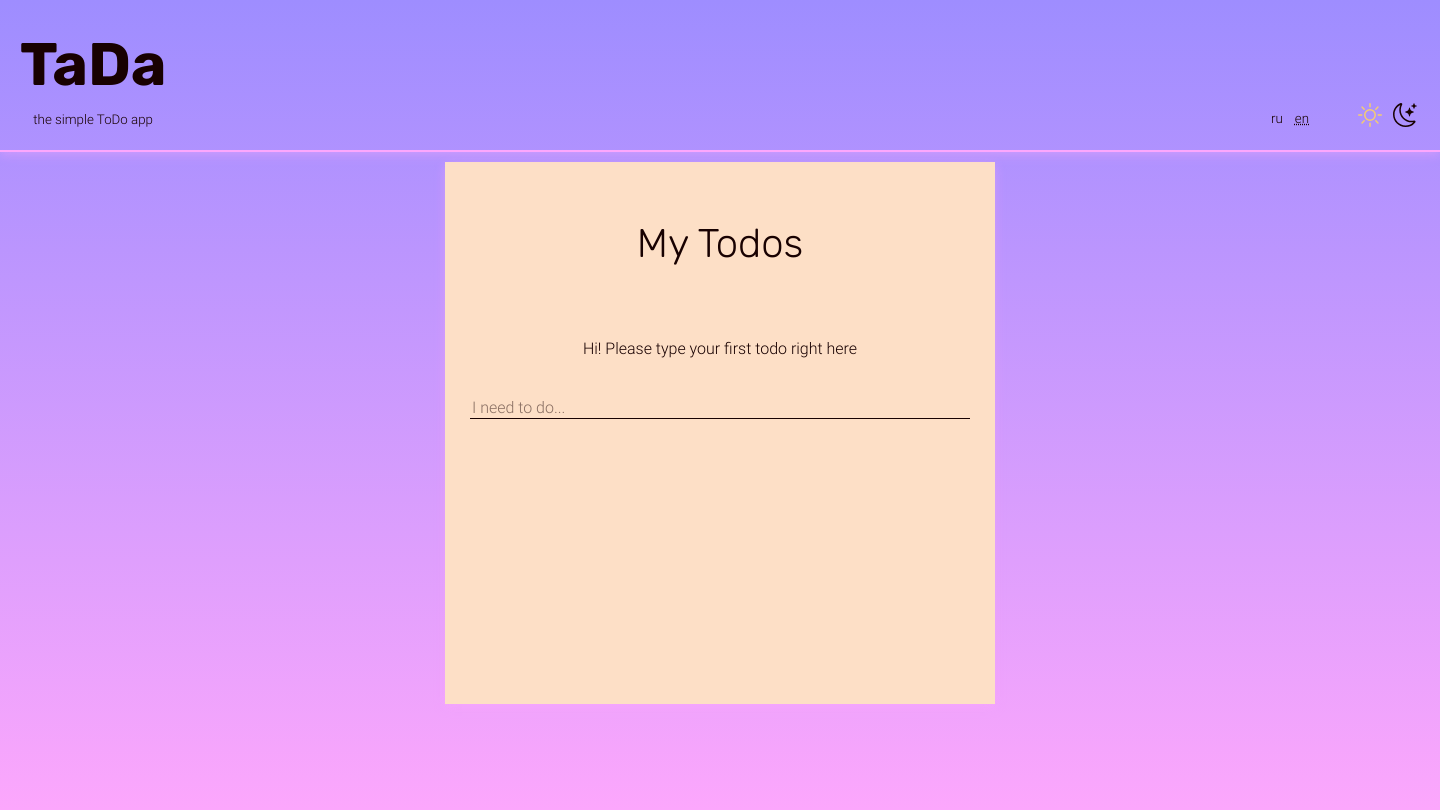
it: Filters › shows active todos
Type "something" into the field with test id "addTodo" at (720, 408), box [470, 397, 970, 419]
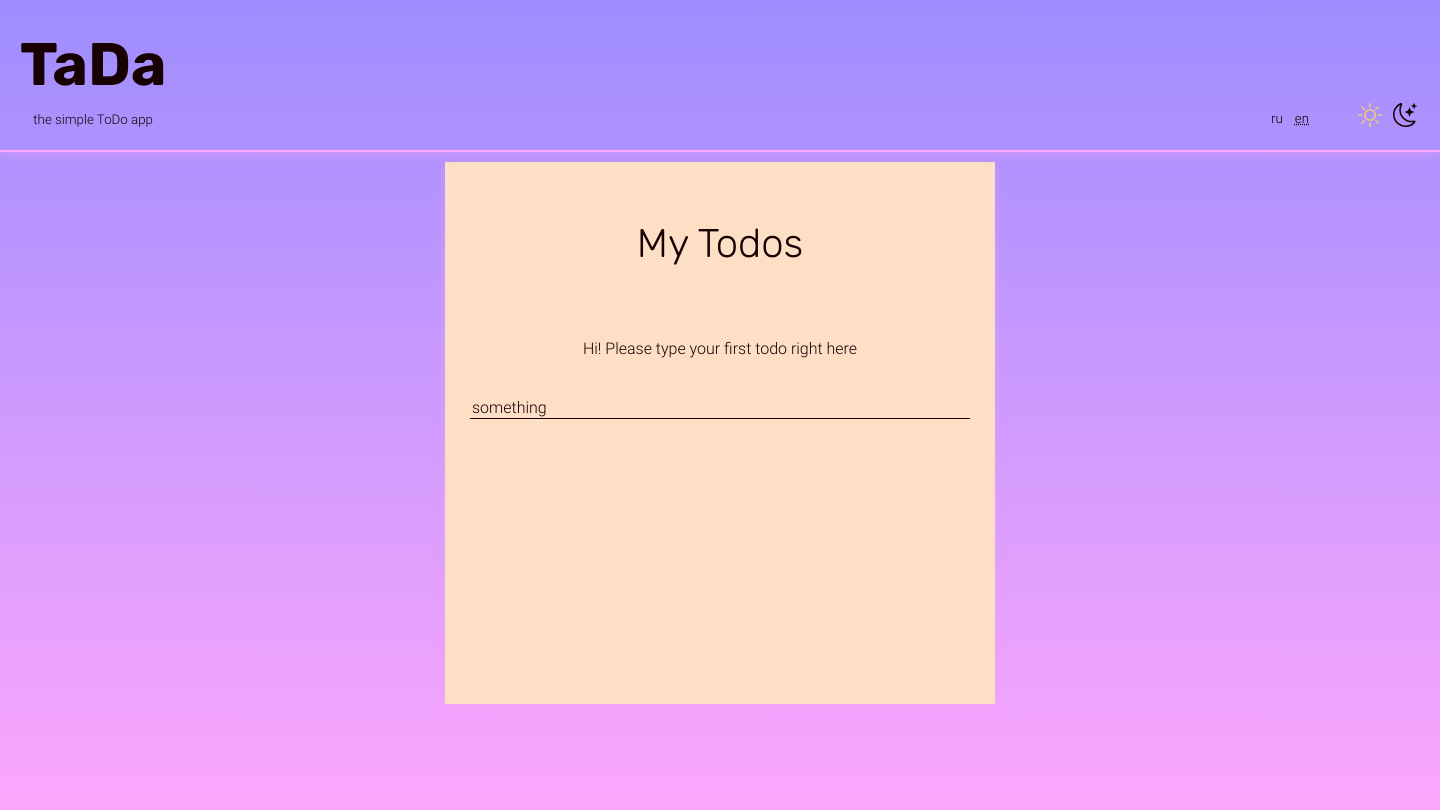
Submit the form from the field with test id "addTodo", box [470, 397, 970, 419]
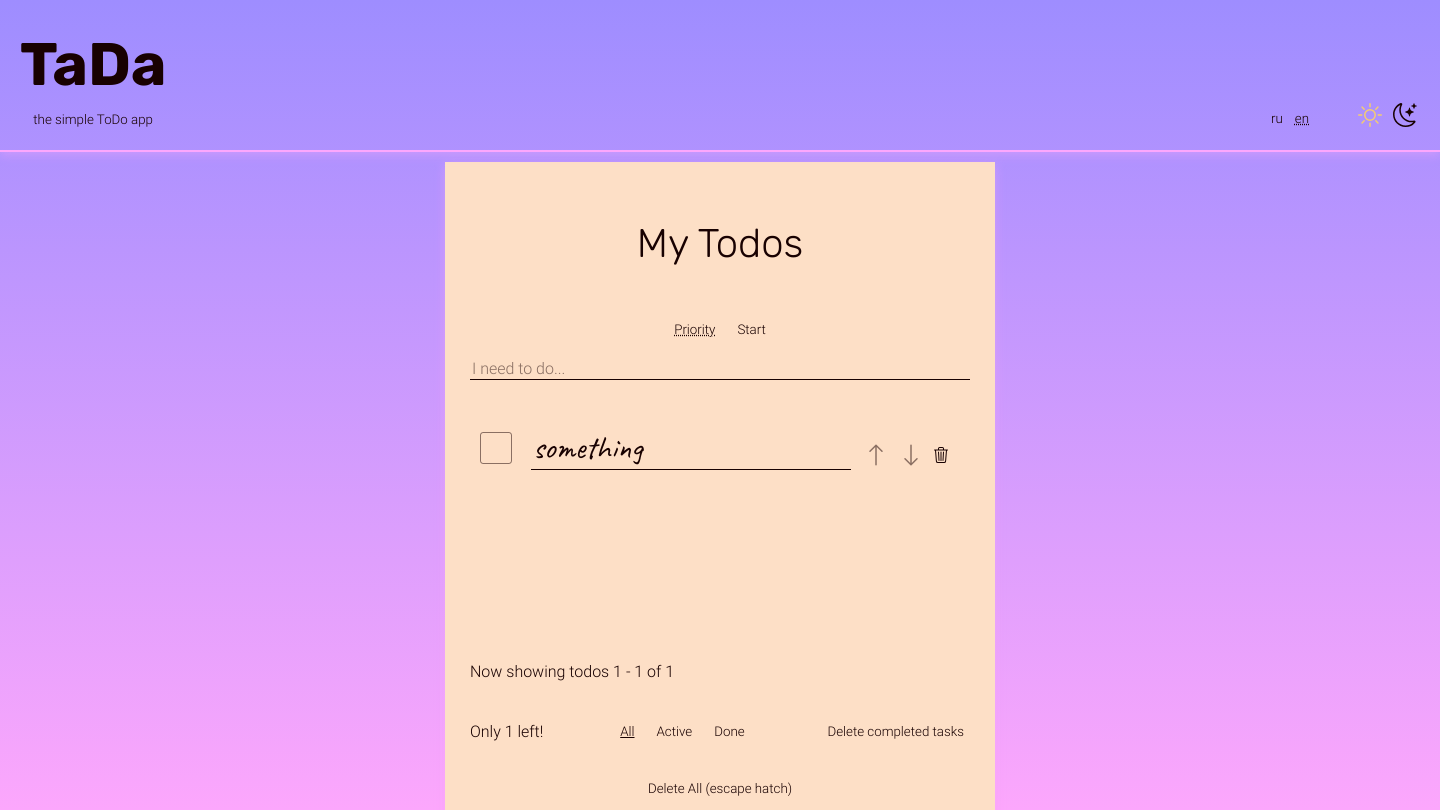
Type "something else" into the field with test id "addTodo" at (720, 369), box [470, 358, 970, 380]
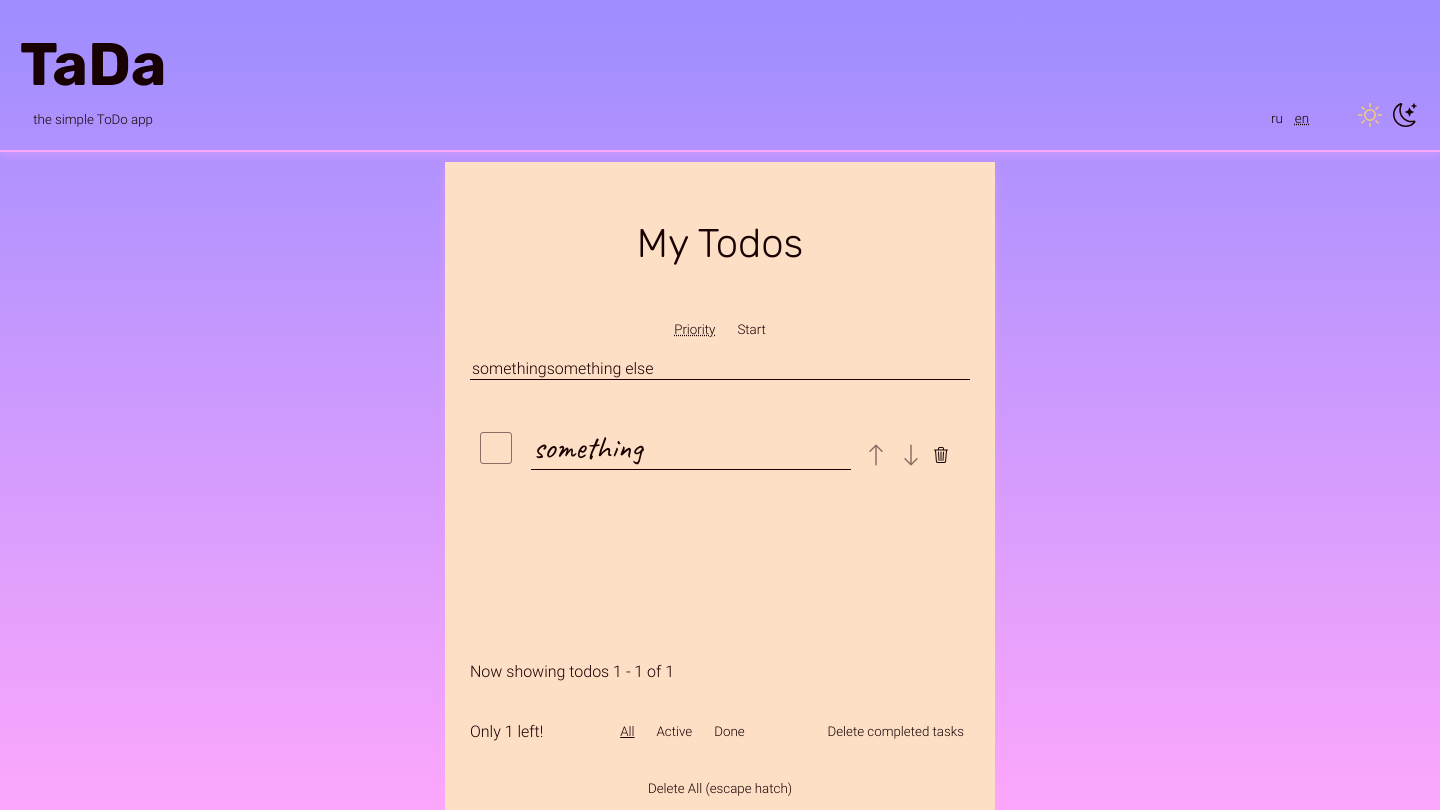
Submit the form from the field with test id "addTodo", box [470, 358, 970, 380]
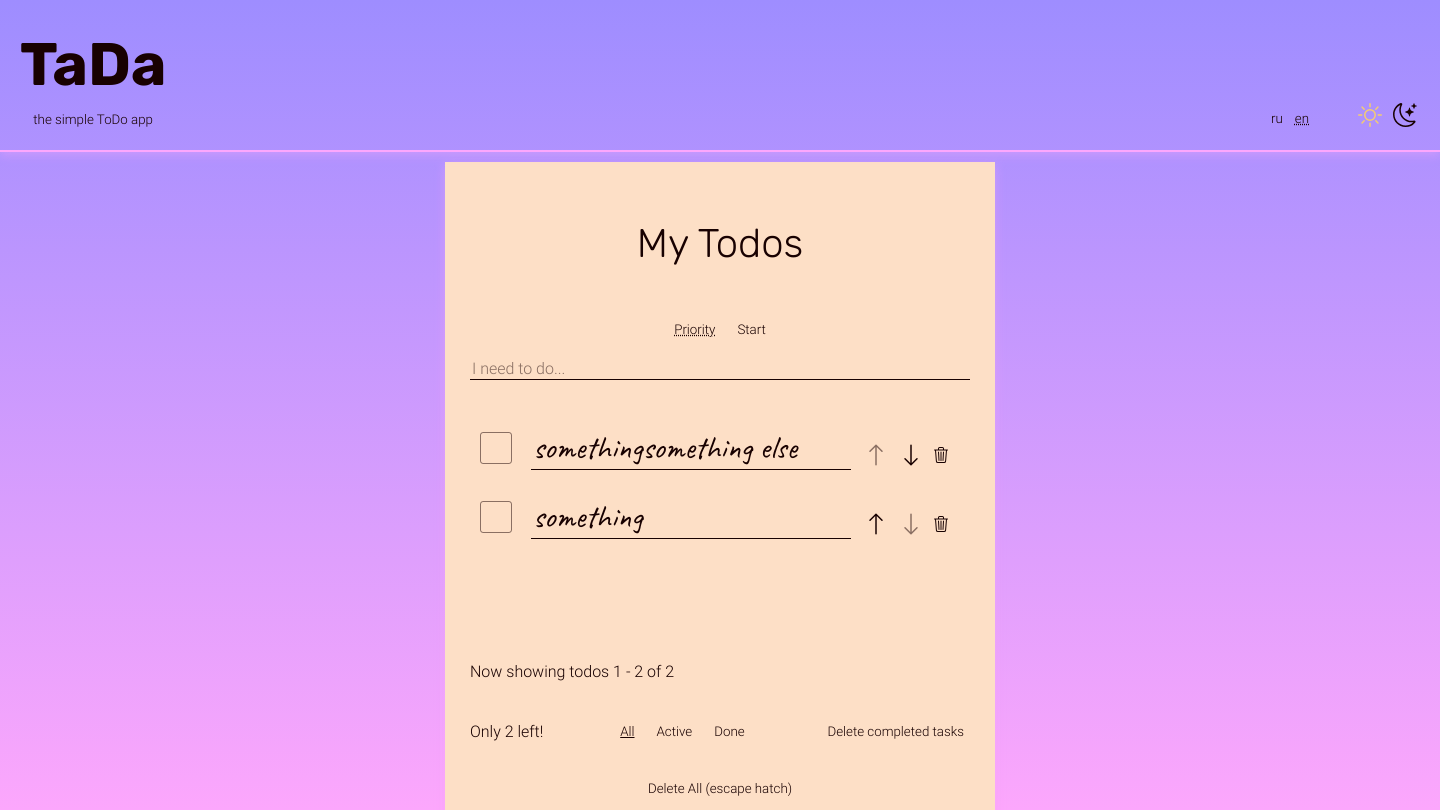
Click the checkbox with test id "checkDone" at (500, 448), box [480, 426, 521, 470]
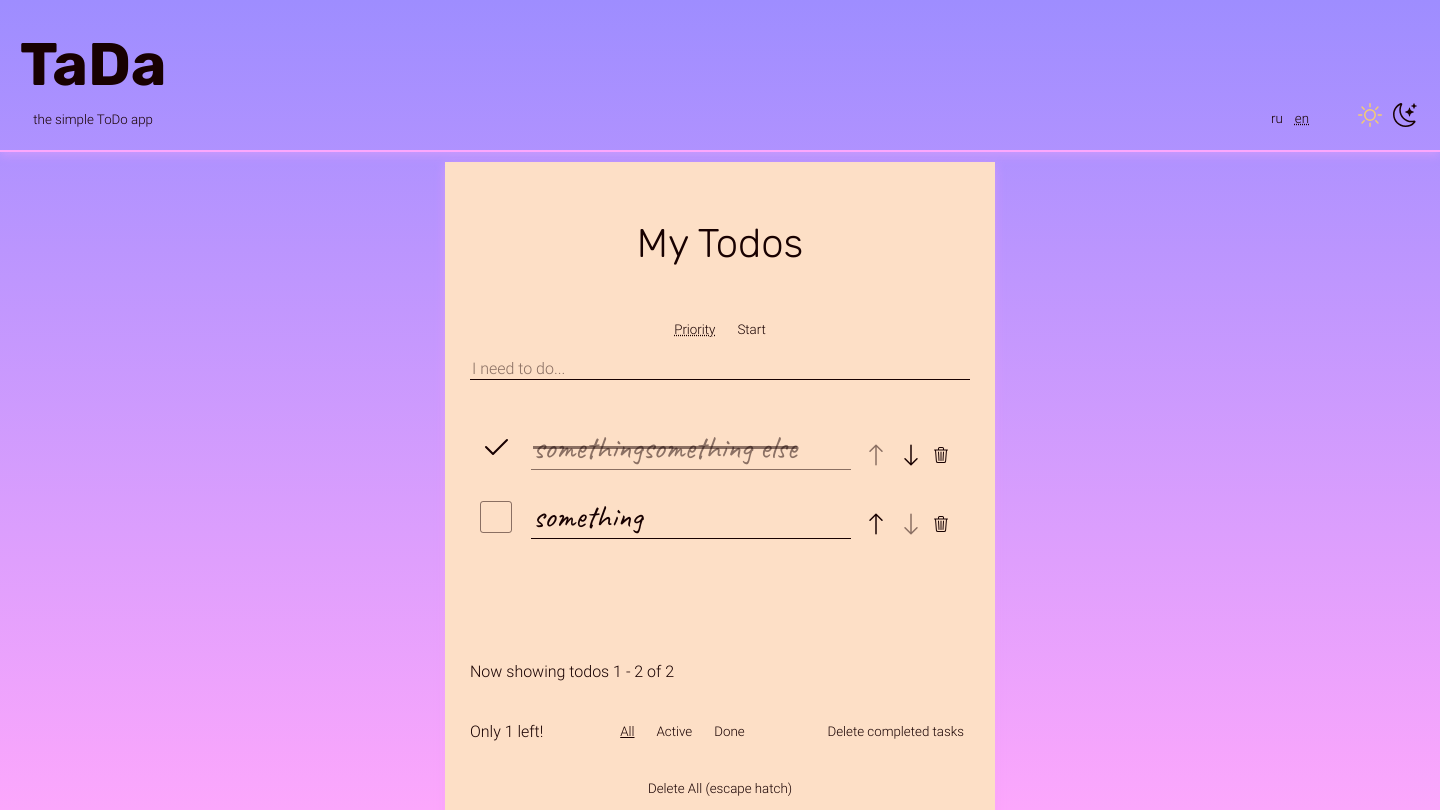
Click the button "Active" at (674, 732), box [650, 704, 698, 760]
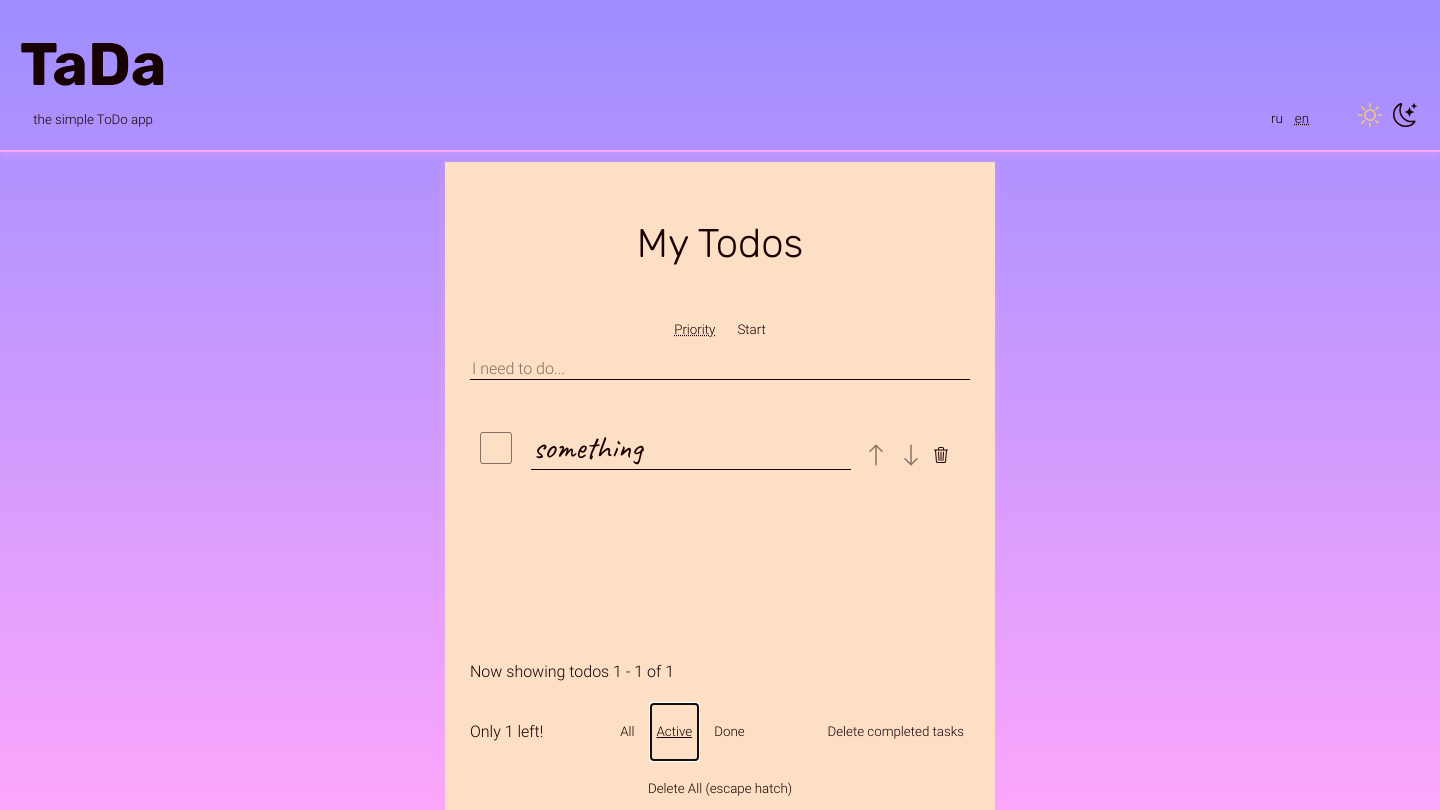
Expected: the number of list items with test id "listItem" is 1, [480, 426, 960, 475]
